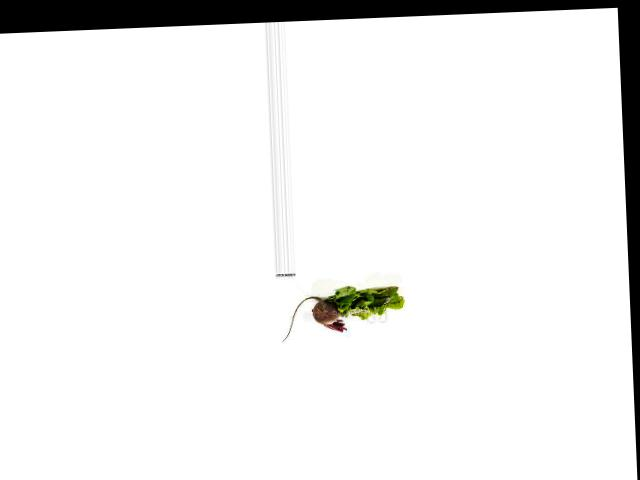beet: (279, 294, 347, 342)
